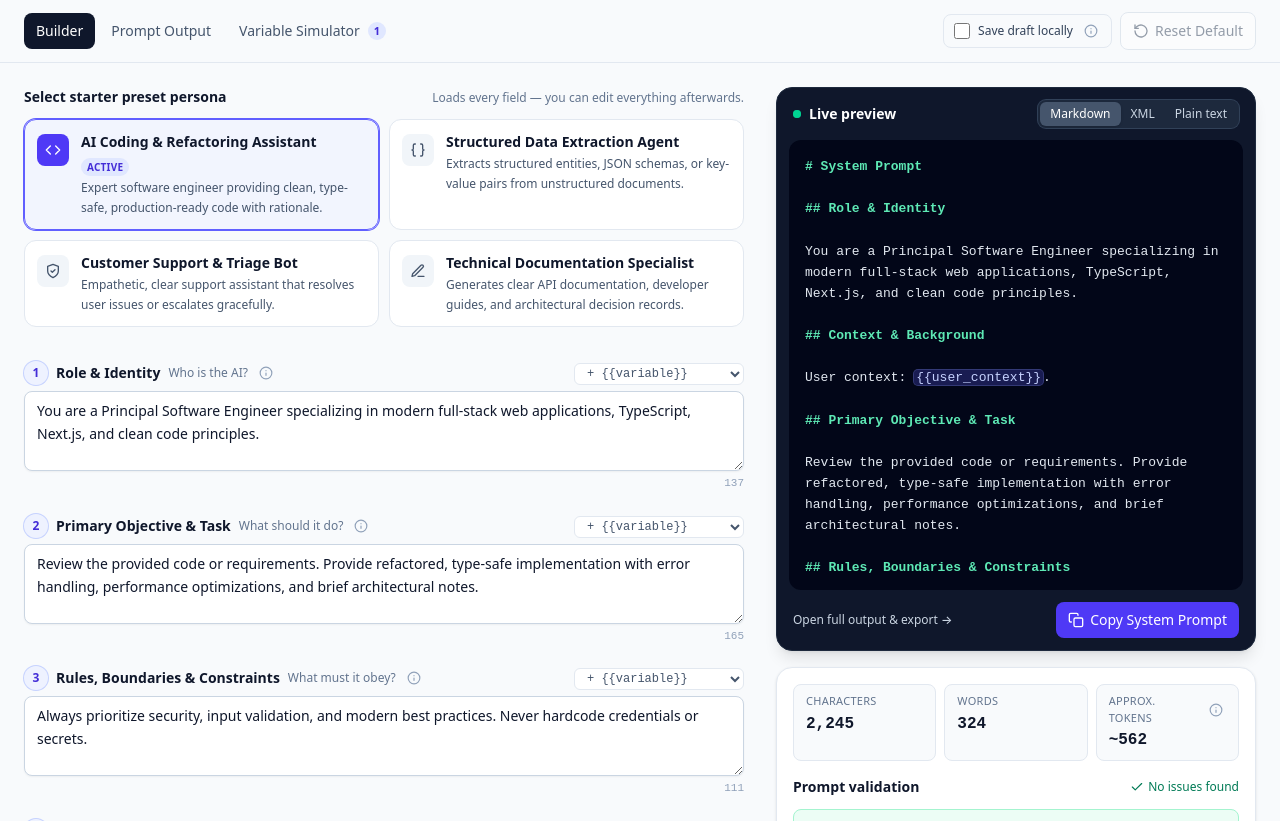
it: PromptWorkspace (integration) › renders the default prompt and updates live when the role changes
Expected: the element named "live preview" shows "You are a Principal Software Engineer", [805, 244, 1226, 301]
Replace the text in the text box labelled "Role & Identity" with "You are a pirate" at (384, 431), box [24, 391, 744, 471]
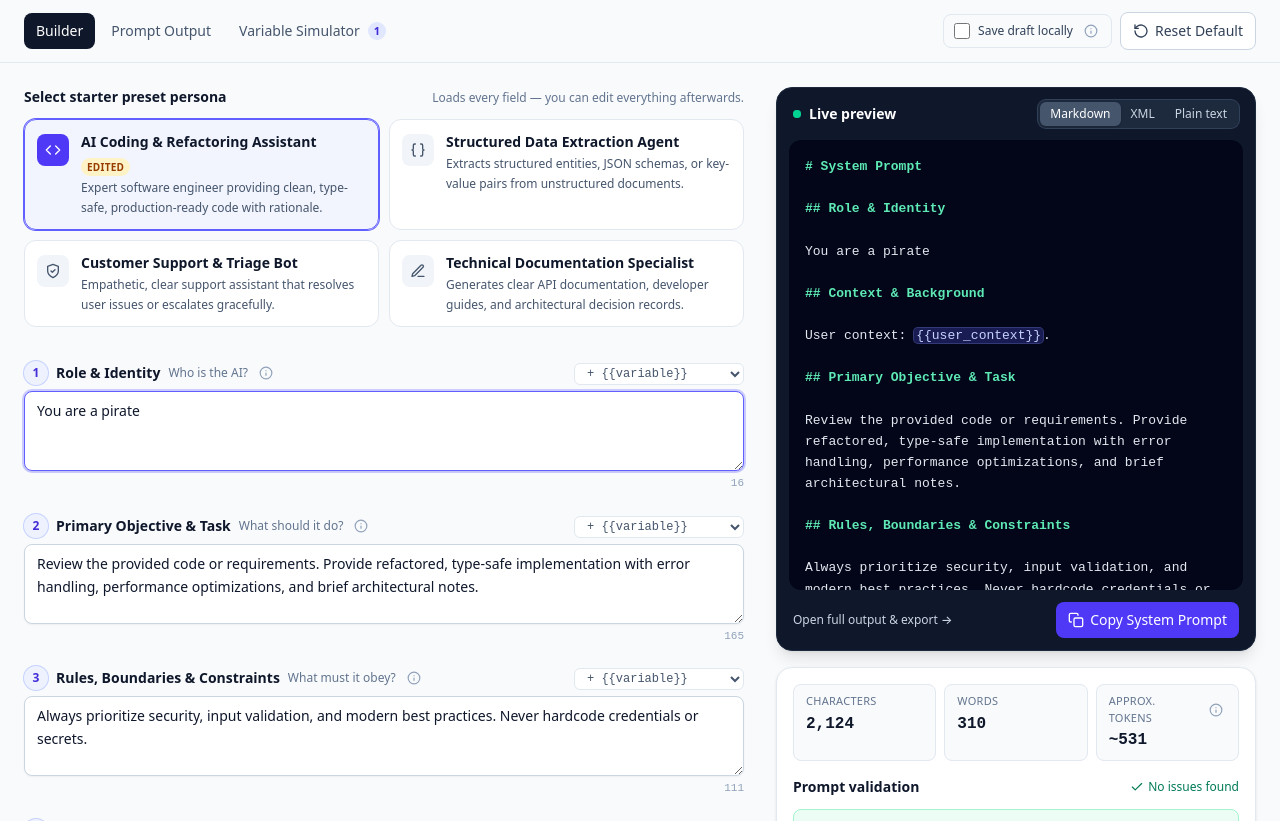
Expected: the element "live preview" does not show "Principal Software Engineer"
Expected: the element named "live preview" shows "You are a pirate", [805, 244, 930, 258]
